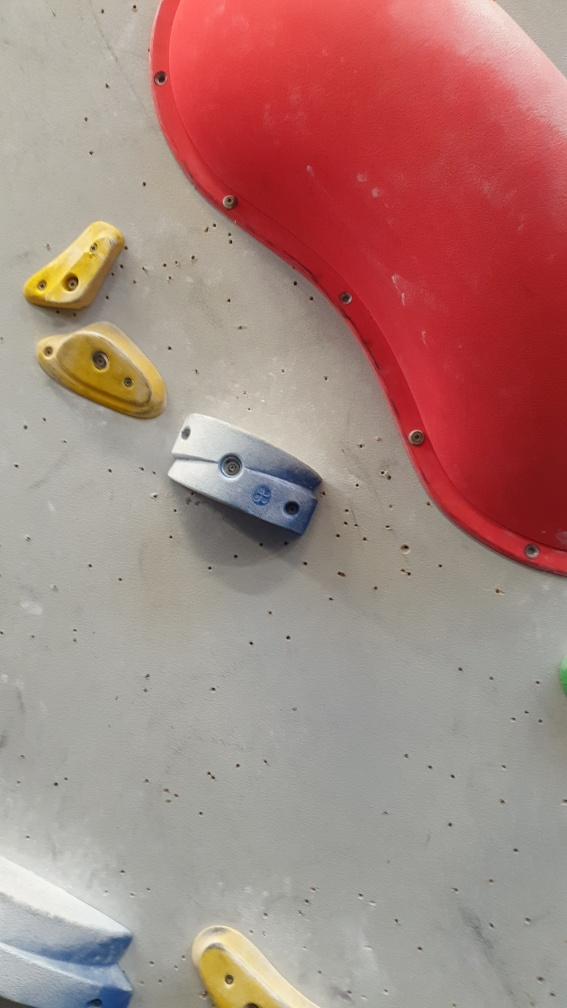Crimp: (54, 326, 162, 418), (196, 936, 291, 1008), (42, 227, 119, 312)
Pinch: (1, 850, 135, 1007), (164, 411, 327, 539)
